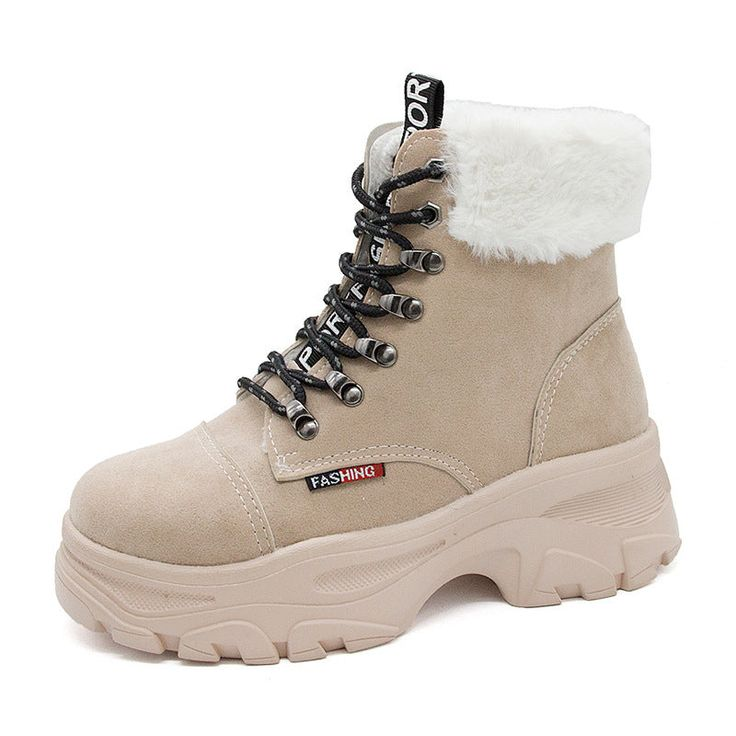gamuza: (69, 130, 653, 567)
